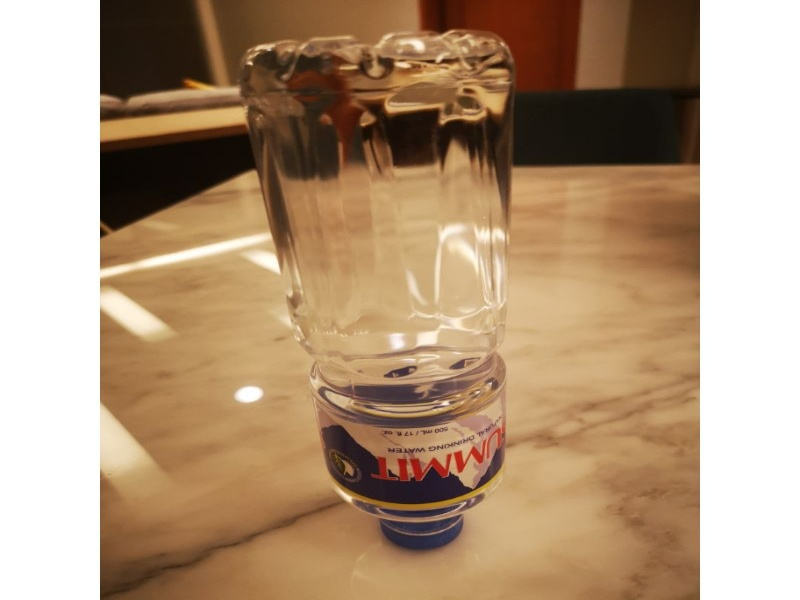PET #1: (236, 25, 518, 553)
